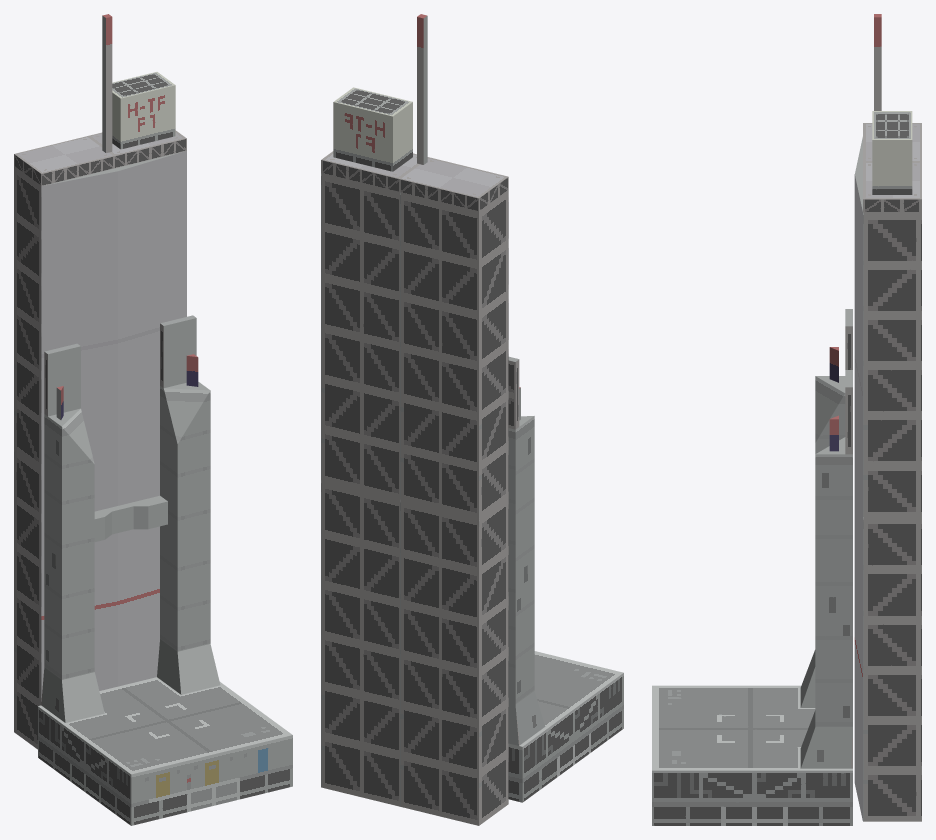
File: 02ca_Launch_Pad.glb
3 renders of one model, left to right at view 1: azimuth 30°, elevation 25°; view 2: azimuth 150°, elevation 25°; view 3: azimuth 270°, elevation 25°, orthographic. The views are drawn at different scales.
Parts seen in each view (by area): view 1: part_0; view 2: part_0; view 3: part_0.
Part boxes in pixels (box(x1,y1,x2,y2)): part_0: box(14, 14, 292, 825); part_0: box(321, 14, 623, 825); part_0: box(652, 14, 921, 825).
Bounding box in the file's own units: 50.41 × 213 × 67.68.
1 material, 1 textured.
